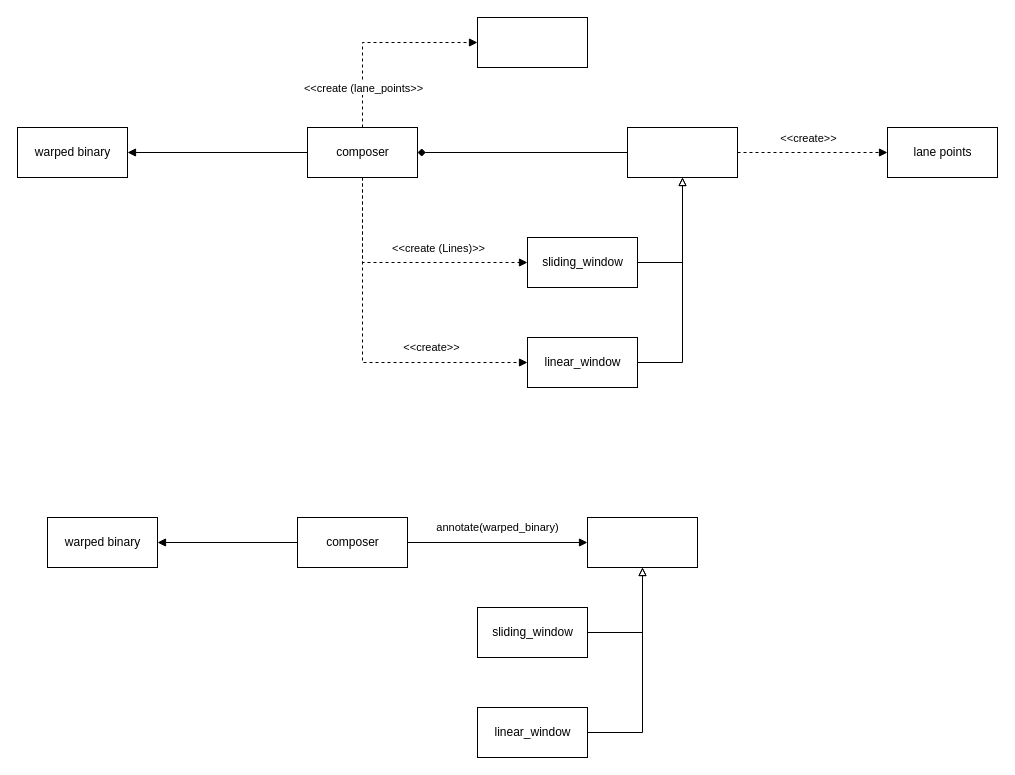
This 1015x775 diagram has some shape labels left out. Each missing label, with the box of its shape:
annotator: (586, 516, 698, 568)
lane_points_finders: (626, 126, 738, 178)
lines: (476, 16, 588, 68)
